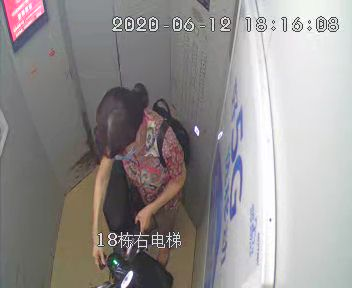Electric-bicycle: (95, 165, 172, 288)
